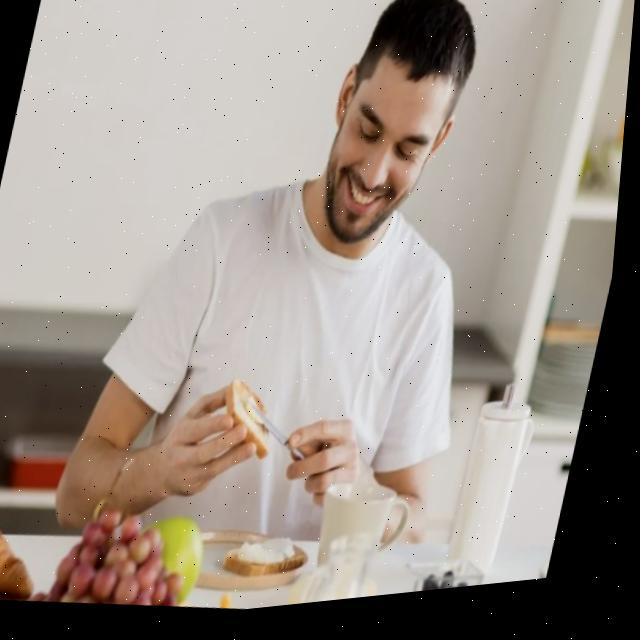eating-person: (34, 0, 640, 634)
